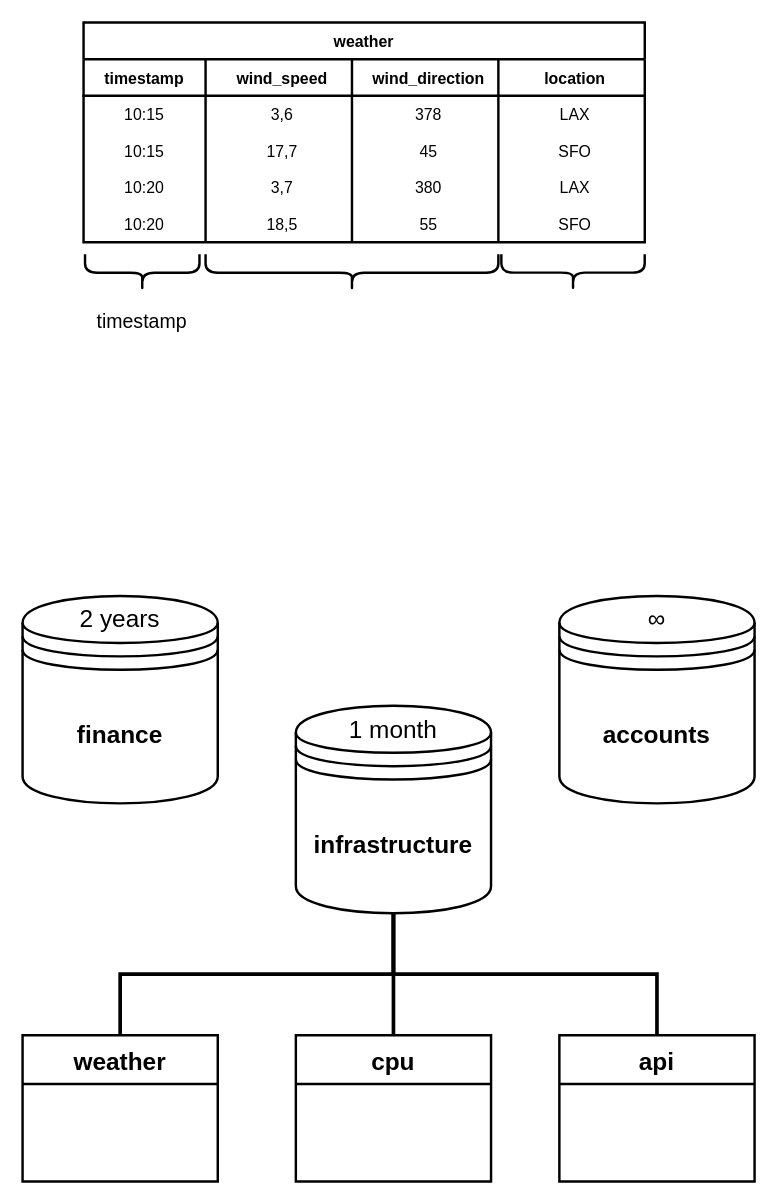
Image size: 776x1203. Some labels were removed from this diagram. The shapes that lost their labels are listed below. From the top down, each one's centre as x and y in pixels, then its label:
point 351,272: fields
point 572,272: tags
